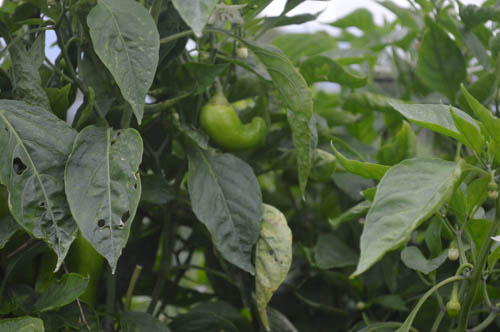ChiliPepper: (37, 228, 105, 307), (201, 101, 265, 153)
